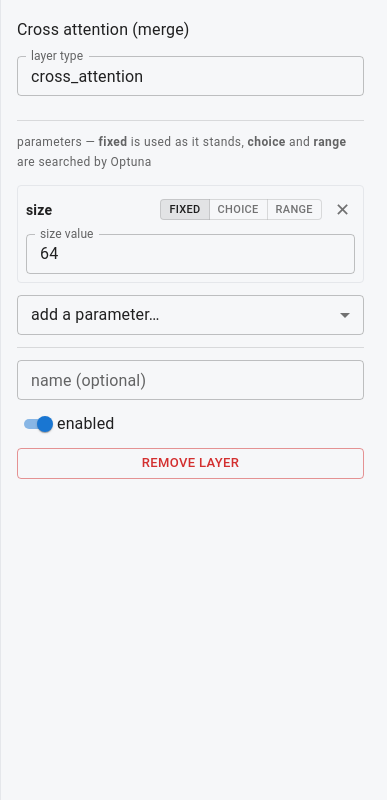
Scenario: the value a parameter starts at › adds attention_query empty, as a list of the branches of the graph
The image size is (387, 800).
Press the mouse on the dropdown labelled "add a parameter…" at x=95, y=315, box x1=31 y1=305 x2=160 y2=324
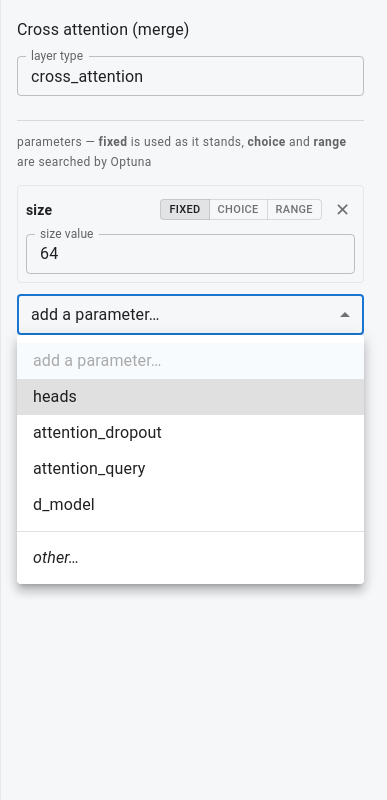
Click the option "attention_query" at x=89, y=468, box x1=33 y1=459 x2=146 y2=478
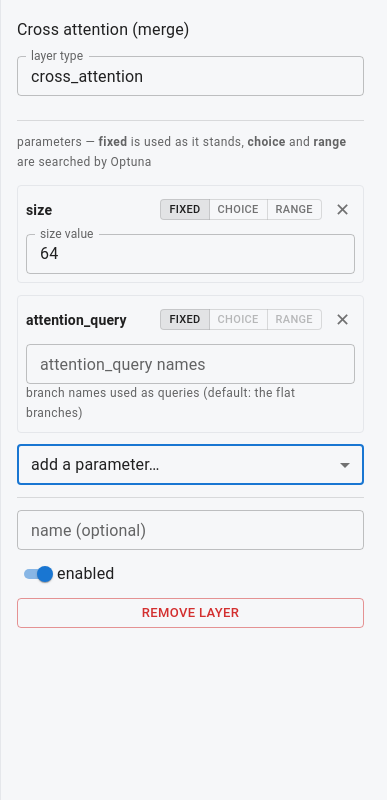
Now the 2nd button "choice" is disabled, box x1=209 y1=309 x2=268 y2=330
Now the 2nd button "range" is disabled, box x1=267 y1=309 x2=322 y2=330
Click the dropdown labelled "attention_query names" at x=189, y=364, box x1=32 y1=350 x2=346 y2=378
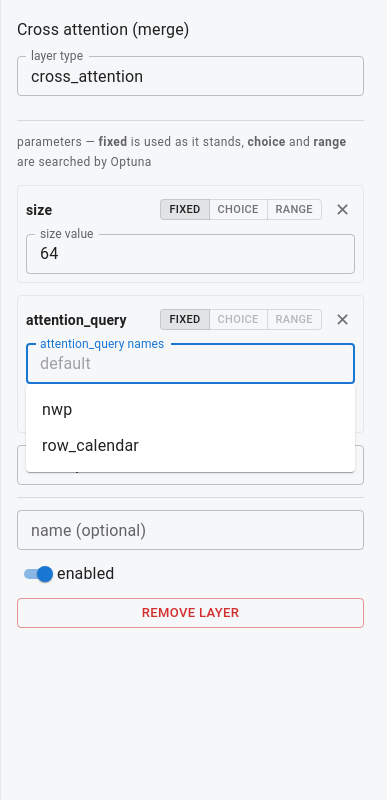
Click the option "row_calendar" at x=90, y=446, box x1=42 y1=436 x2=139 y2=455
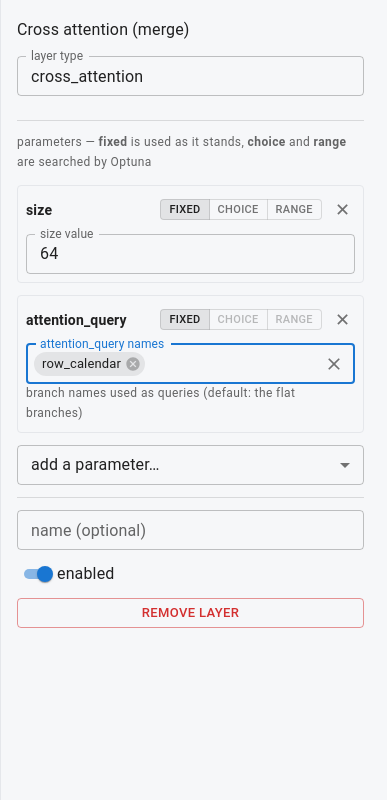
Type "row_all" into the dropdown labelled "attention_query names" at x=232, y=364, box x1=147 y1=350 x2=316 y2=378
Then press Enter
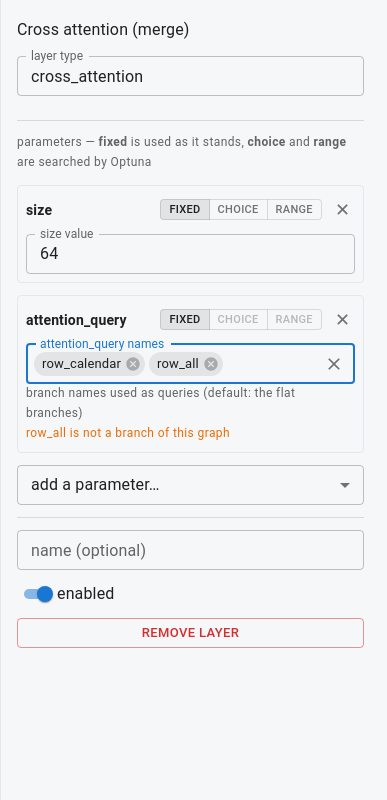
Now the message reads "row_all is not a branch of this graph", box x1=26 y1=426 x2=230 y2=440
